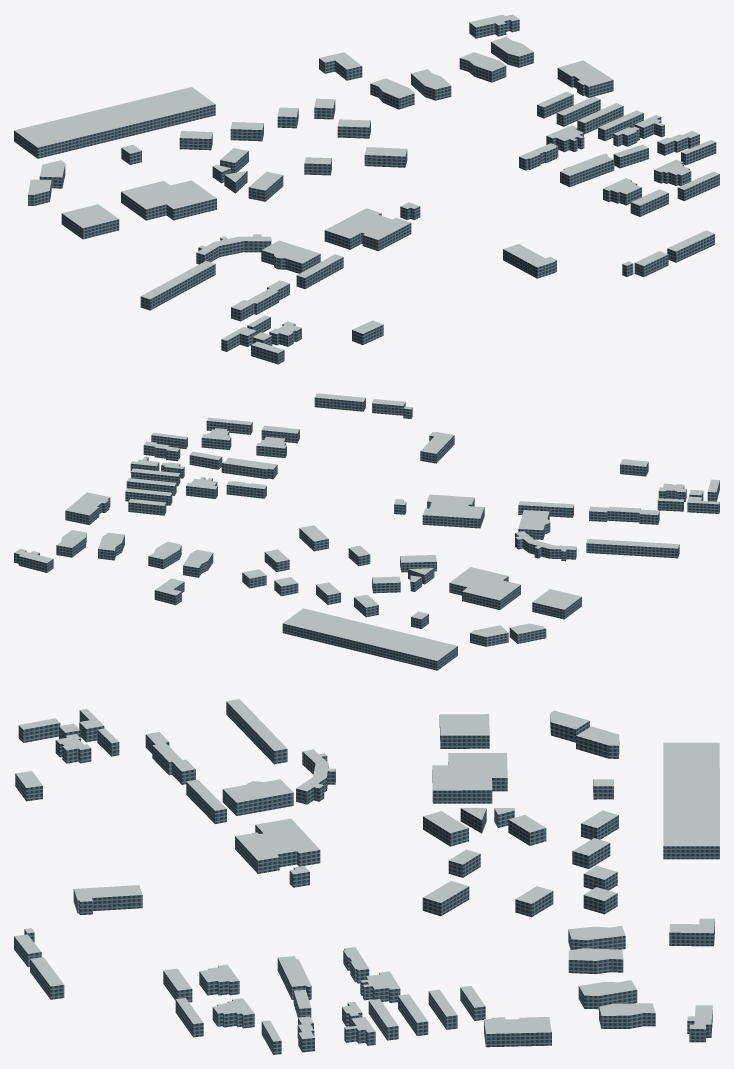
The picture shows the model from 3 angles, top to bottom: view 1: azimuth 30°, elevation 25°; view 2: azimuth 150°, elevation 25°; view 3: azimuth 270°, elevation 25°; orthographic projection. The views are drawn at different scales.
Bounding box in the file's own units: 667 × 12.17 × 581.
2 materials, 1 textured.
